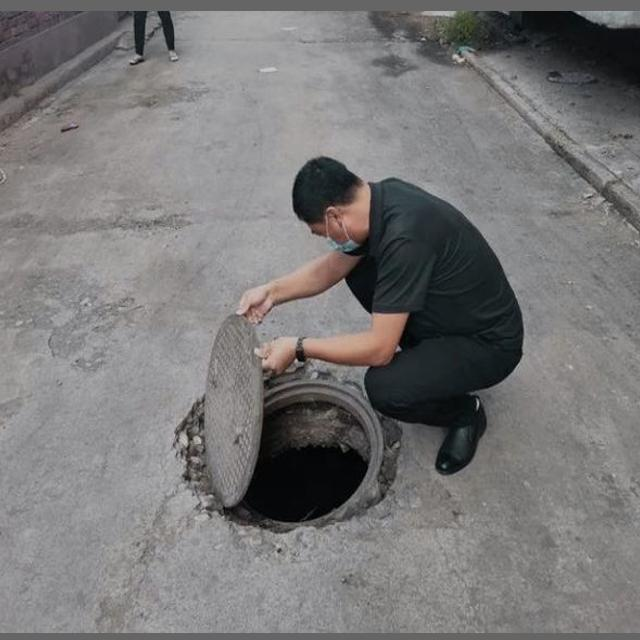circle: (155, 330, 444, 554)
